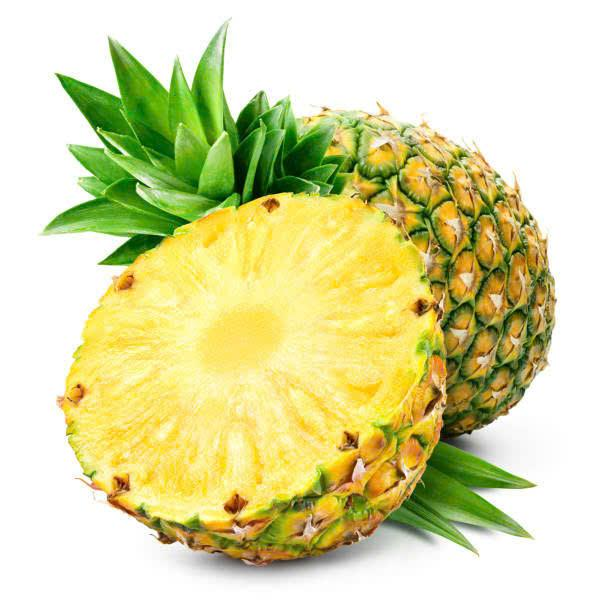pineapple: (17, 234, 461, 551), (394, 97, 591, 442)
